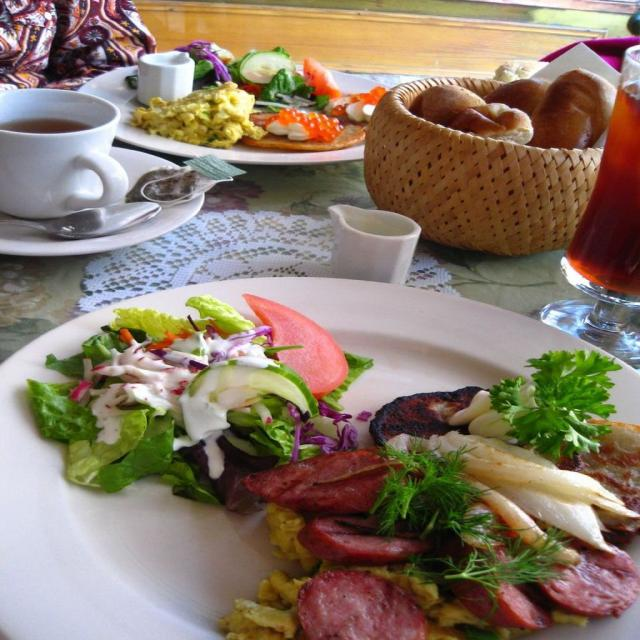Tea: (0, 116, 95, 138)
